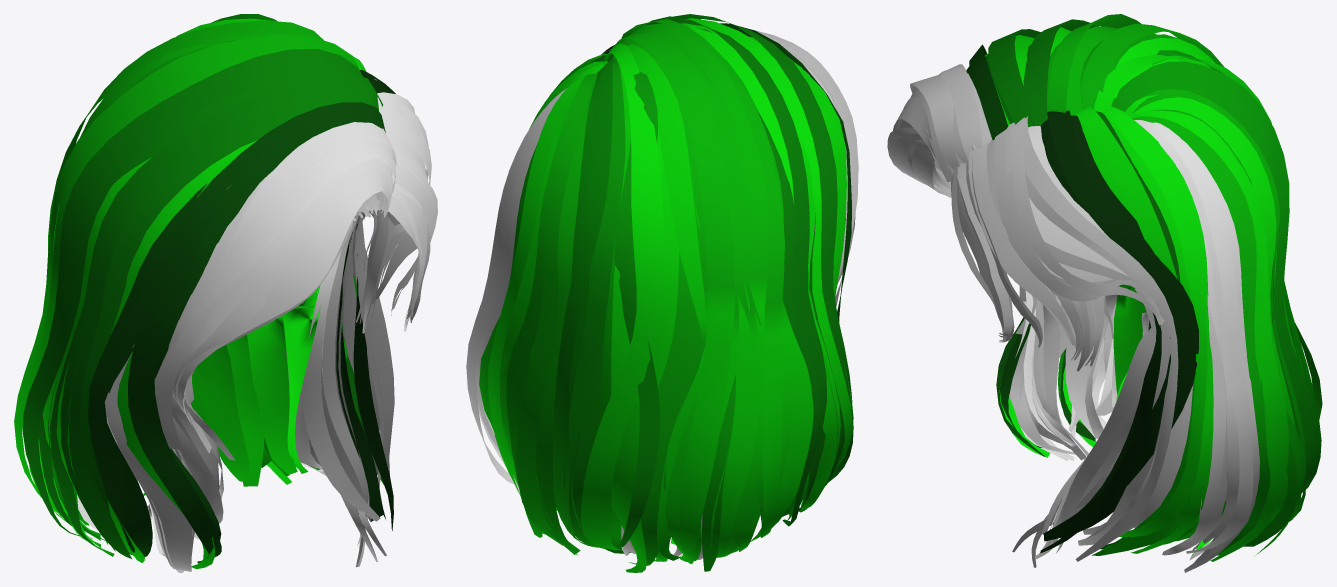
File: HairNormalModified.fbx
The picture shows the model from 3 angles, left to right: view 1: azimuth 30°, elevation 25°; view 2: azimuth 150°, elevation 25°; view 3: azimuth 270°, elevation 25°; orthographic projection. The views are drawn at different scales.
Parts seen in each view (by area): view 1: TZ1_82501_hair; view 2: TZ1_82501_hair; view 3: TZ1_82501_hair.
Boxes of the visible parts, bbox=[...] form: TZ1_82501_hair: bbox=[14, 14, 437, 572]; TZ1_82501_hair: bbox=[466, 14, 858, 572]; TZ1_82501_hair: bbox=[887, 14, 1322, 572].
Size of the model in its own units: 2485 by 3353 by 2638.
